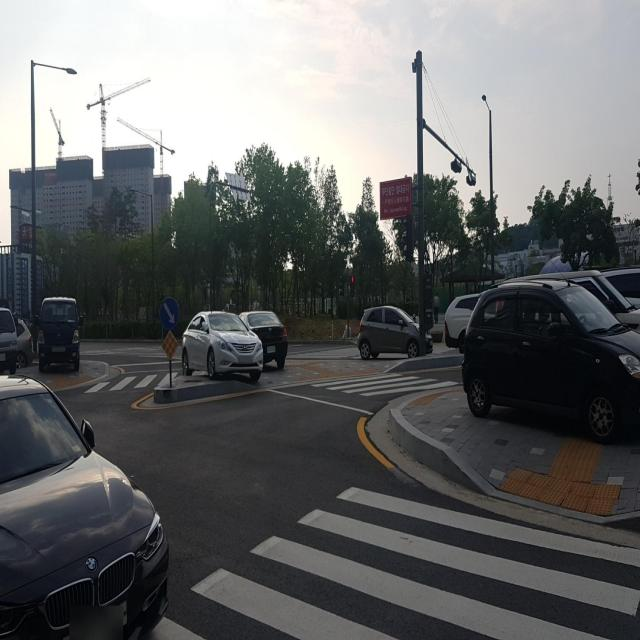빨간불: (350, 274, 356, 294)
횡단보도: (149, 485, 640, 639), (302, 356, 468, 402), (84, 366, 186, 398)
